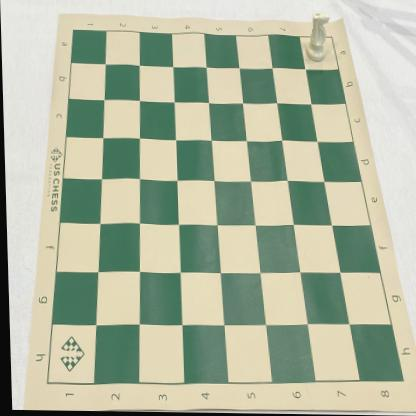white-knight: (304, 12, 331, 64)
